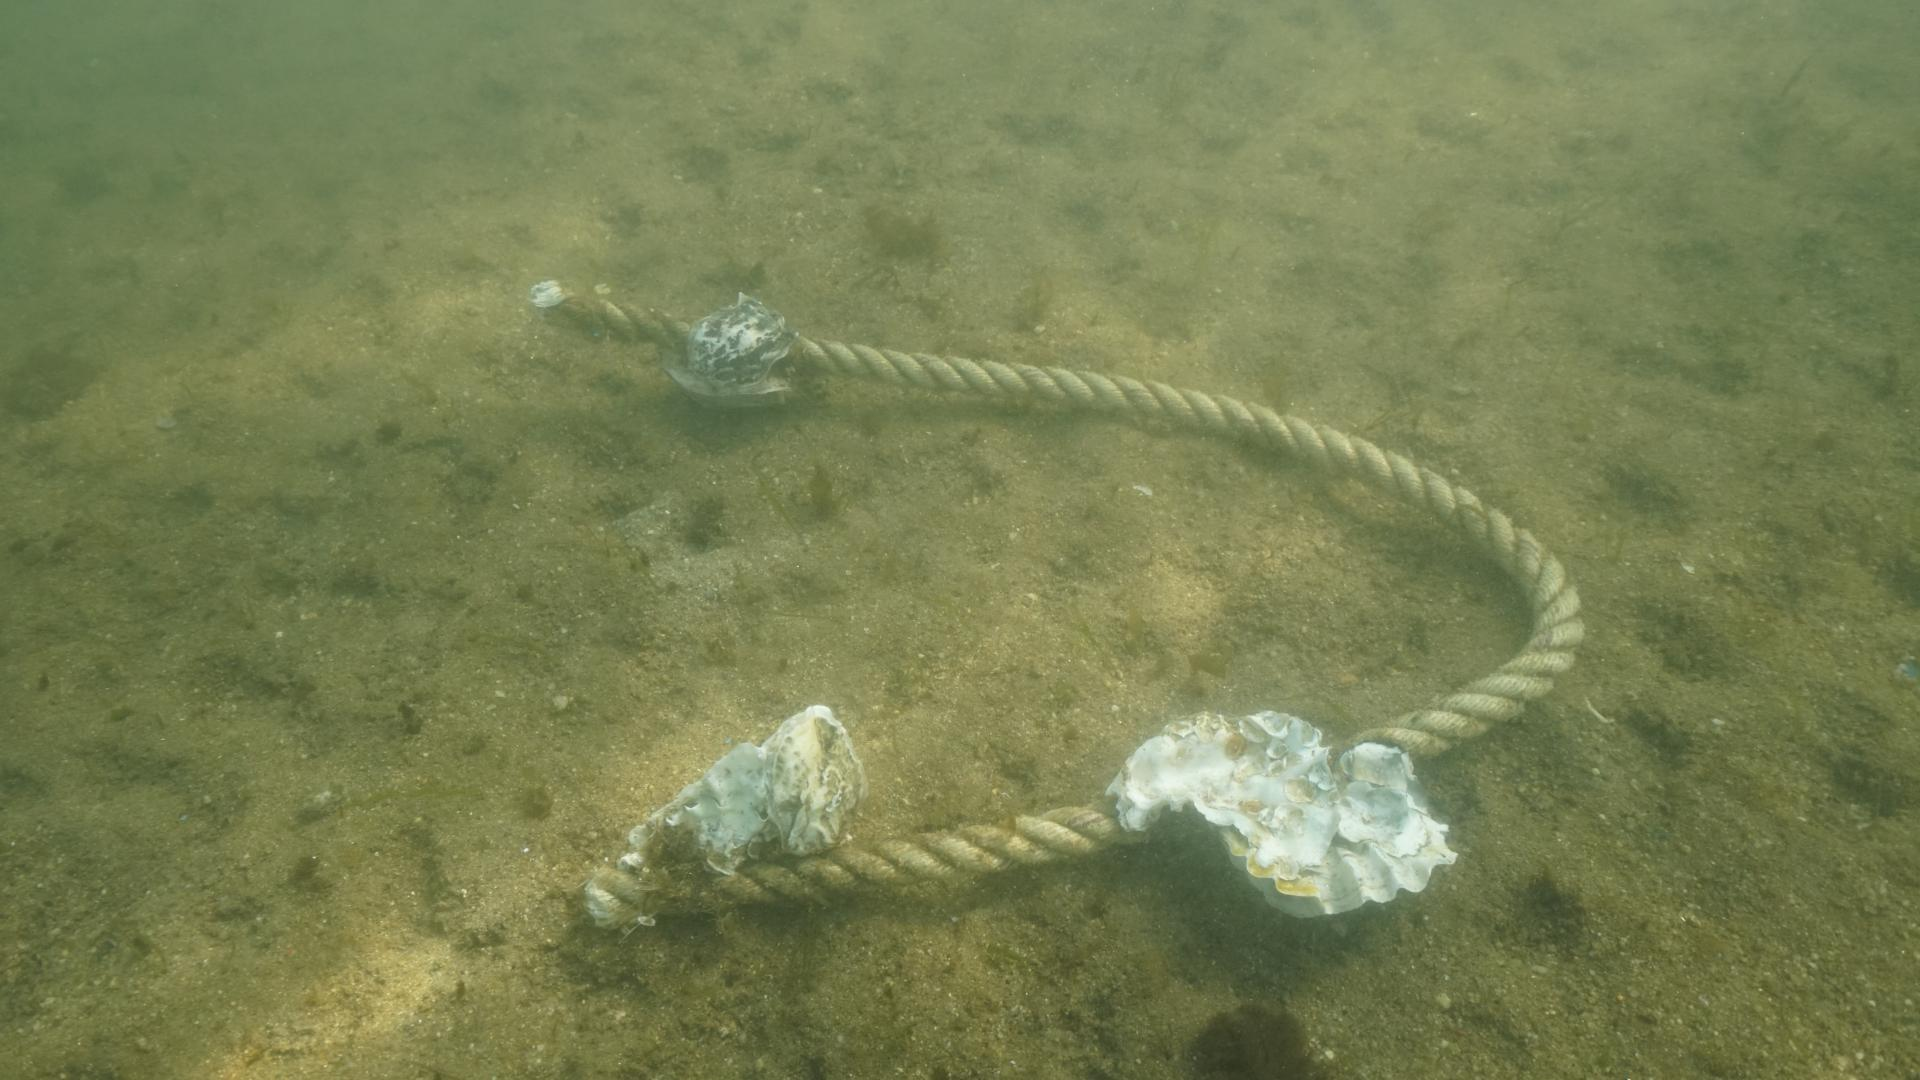rope: (526, 282, 1588, 926)
